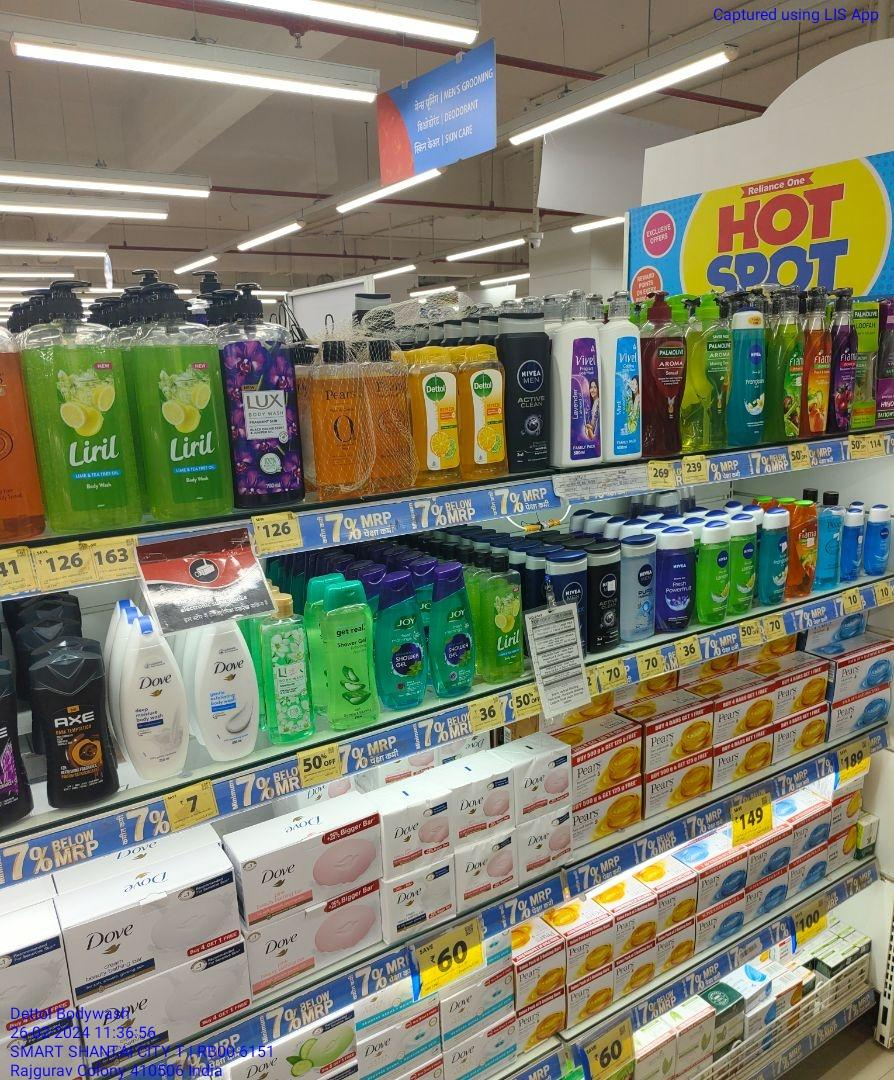Dettol_Bodywash_Refresh: (406, 344, 461, 482), (463, 342, 508, 477)
Dove_Deep_Moisture_Body_Wash_250ML: (119, 616, 193, 779)
Dove_Gentle_Exfoliating_Body_Wash_250ML: (196, 617, 258, 763)
Nivea_Shower_Gel_Frangipani_and_Oil_250ML: (731, 307, 767, 447), (758, 510, 788, 603)
Nivea_Shower_Gel_Lemon_and_Oil_250ML: (696, 519, 728, 625), (730, 514, 756, 615)
